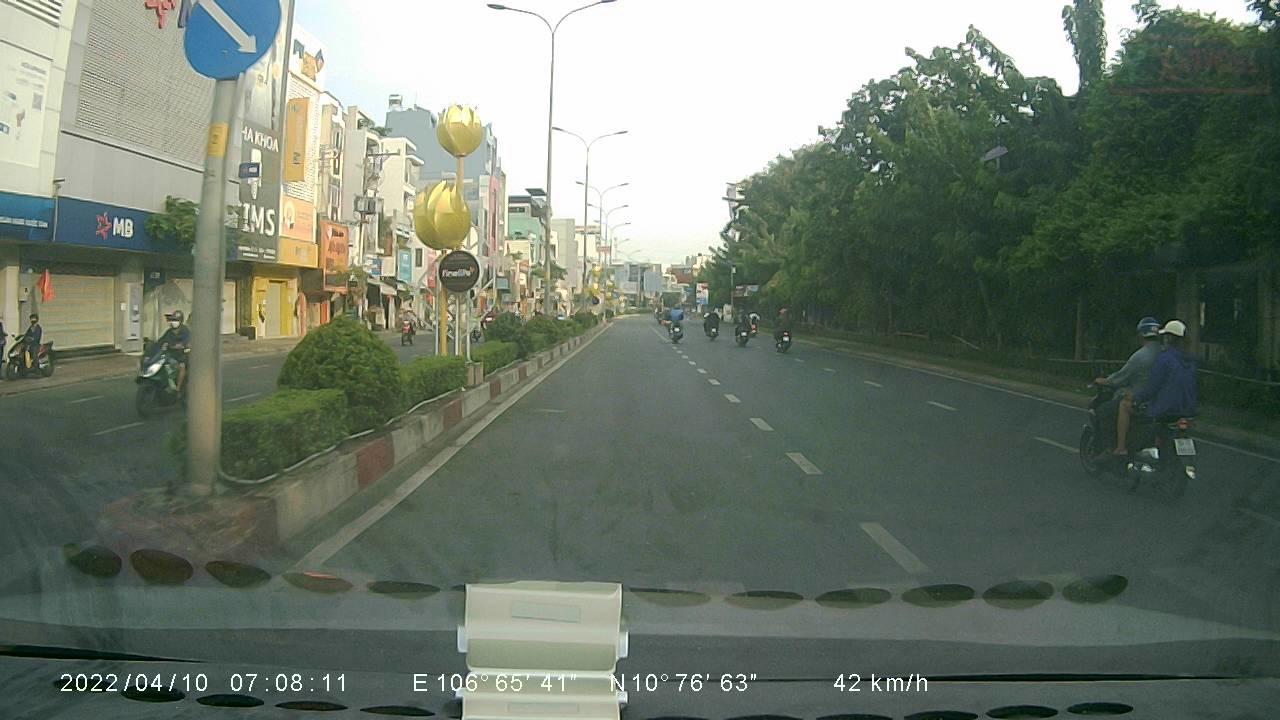Huong di phai re phai: (181, 1, 282, 79)
